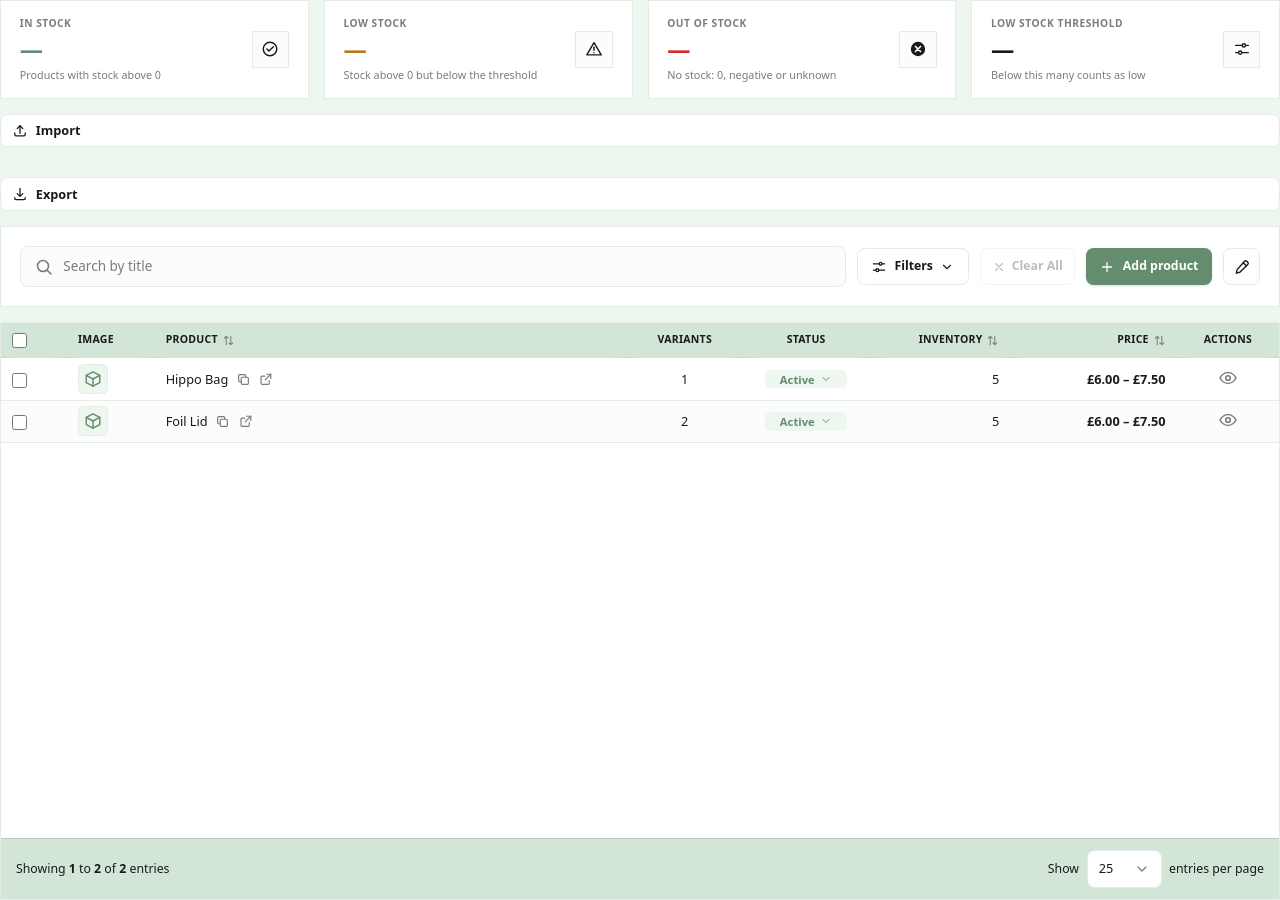
editing products in bulk › opens only the ticked products from "Edit selected"
Expected: the checkbox named "Select Hippo Bag" is shown, 12,373 -> 27,388
Click the checkbox named "Select Foil Lid": (20, 422) 12,415 -> 27,430
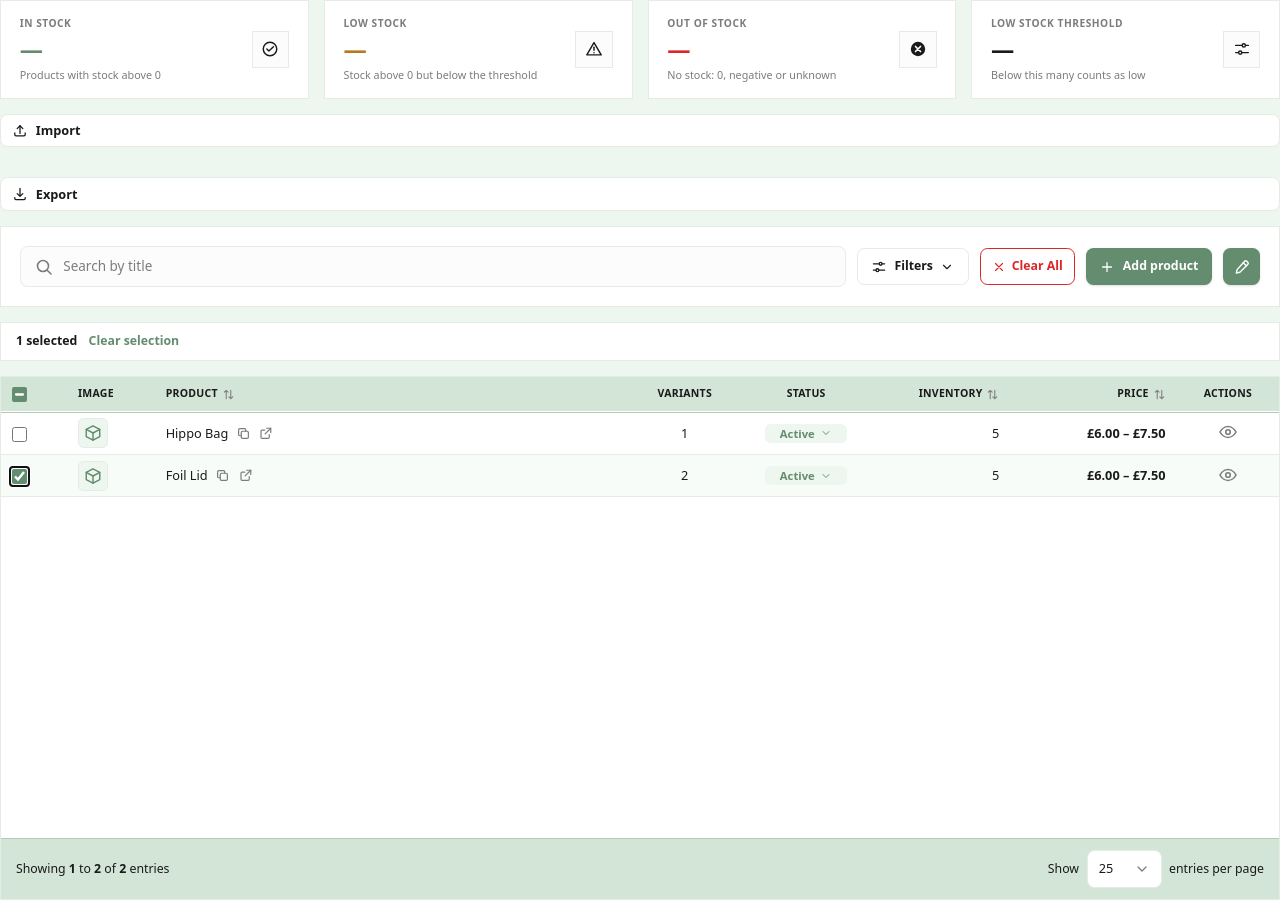
Click the button named "Edit in bulk": (1242, 267) 1223,248 -> 1260,285
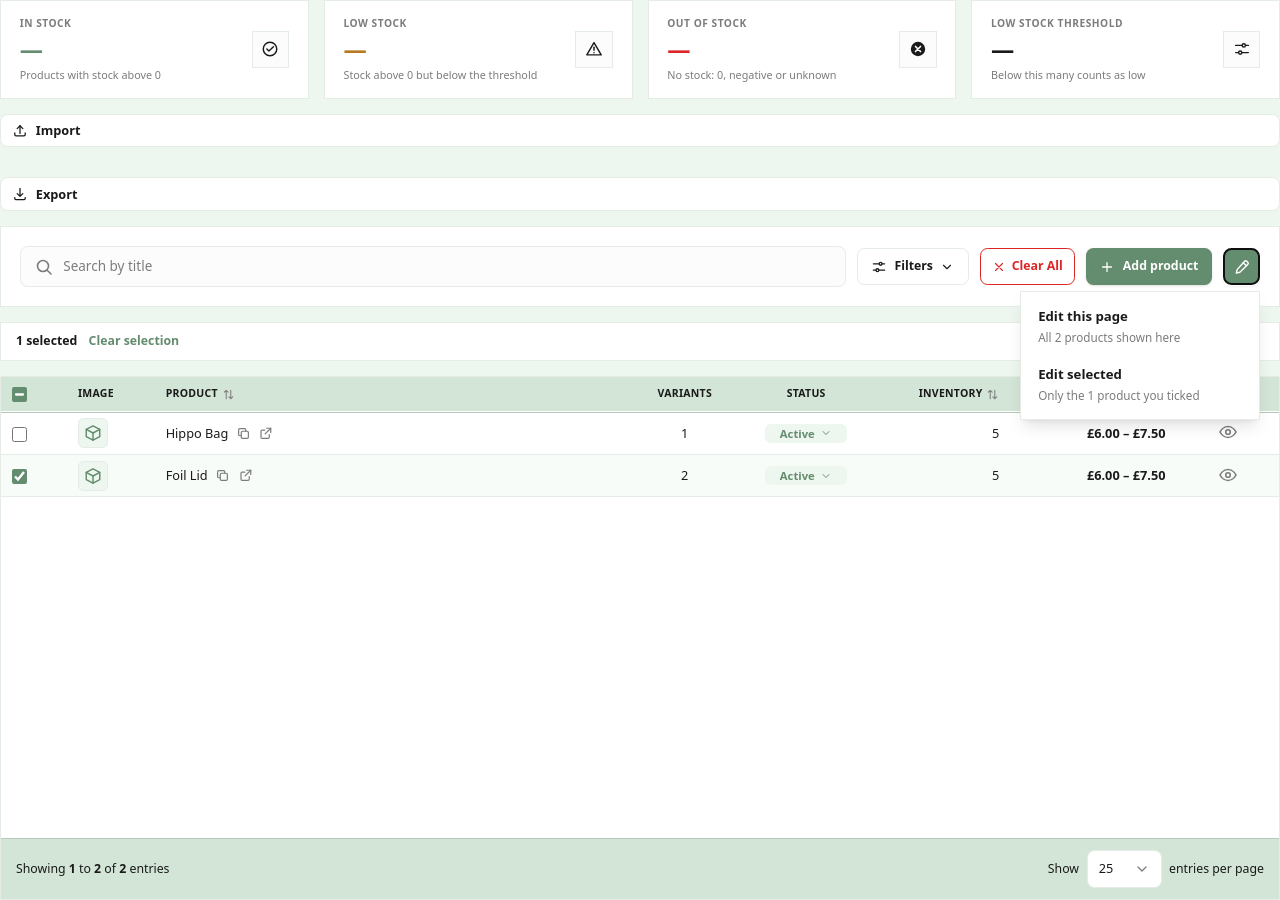
Click the menu item "Edit selected Only the 1 product you ticked": (1140, 384) 1027,356 -> 1254,414
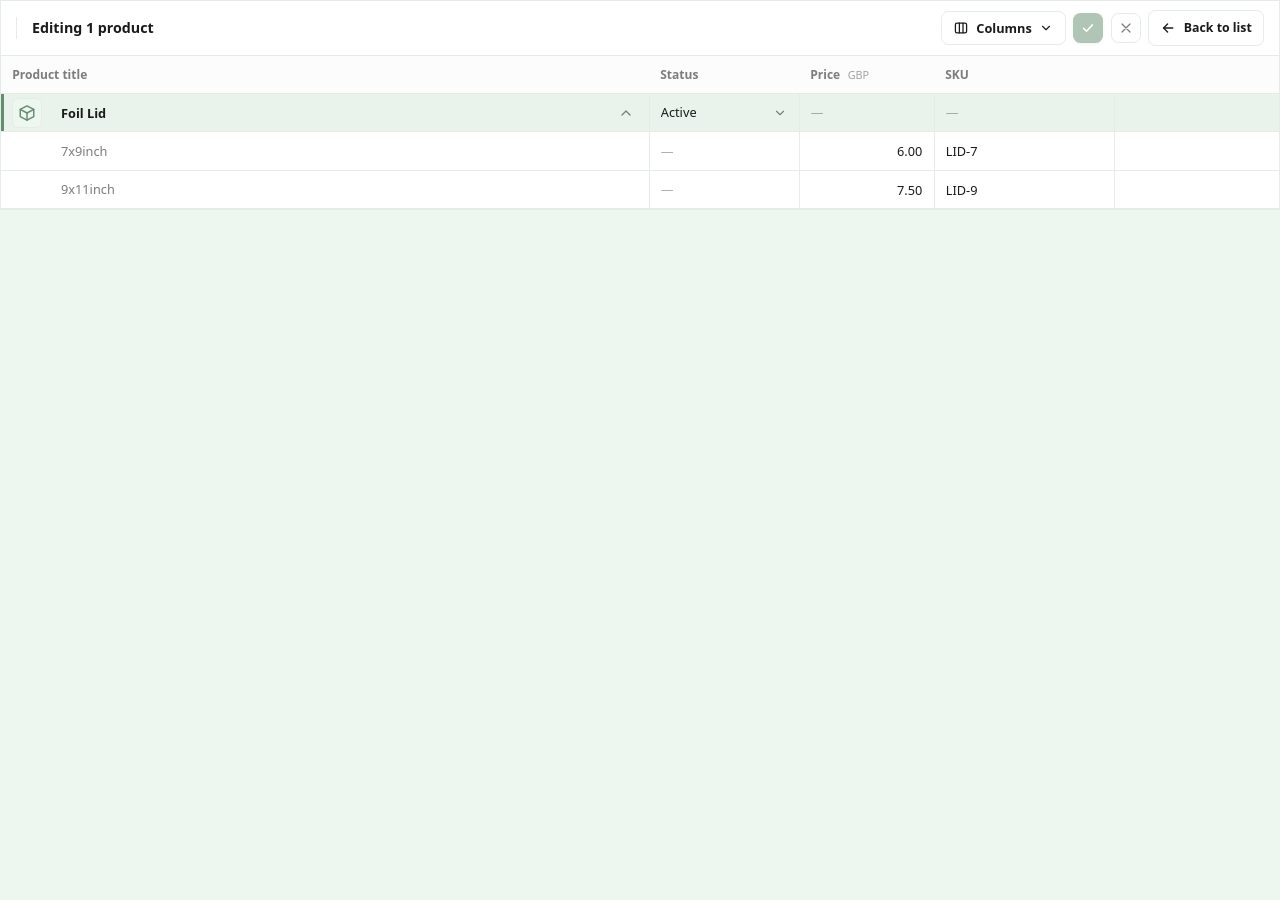
Expected: the heading "Editing 1 product" is shown, 32,17 -> 154,39
Expected: the field named "Title for Foil Lid" is shown, 50,94 -> 604,131
